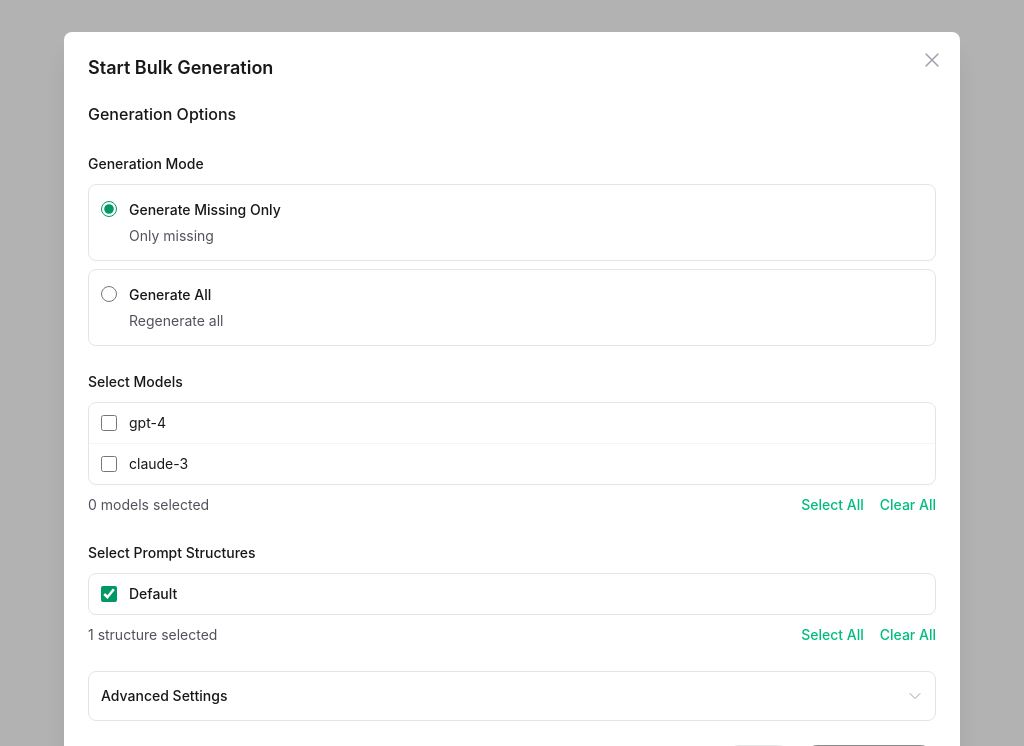
Test case: GenerationControlModal branch coverage › shows singular text for one model selected
Click the checkbox labelled "gpt-4": [109, 423] box [101,415,117,431]
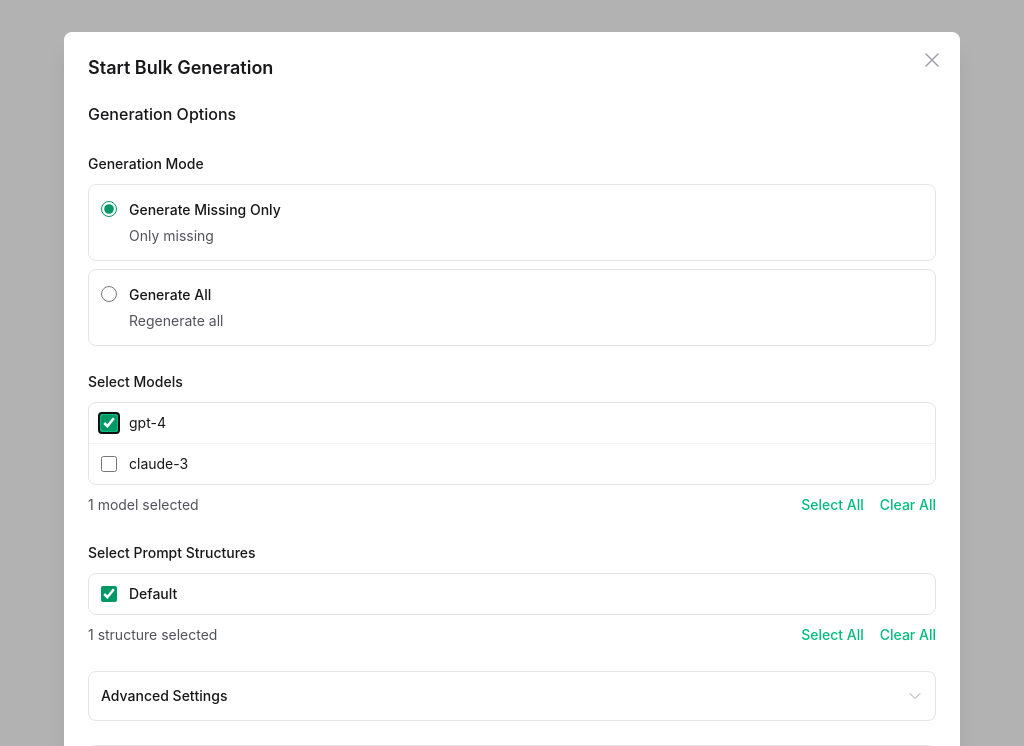
Now the text "1 model selected" is shown, box [88,493,199,517]
